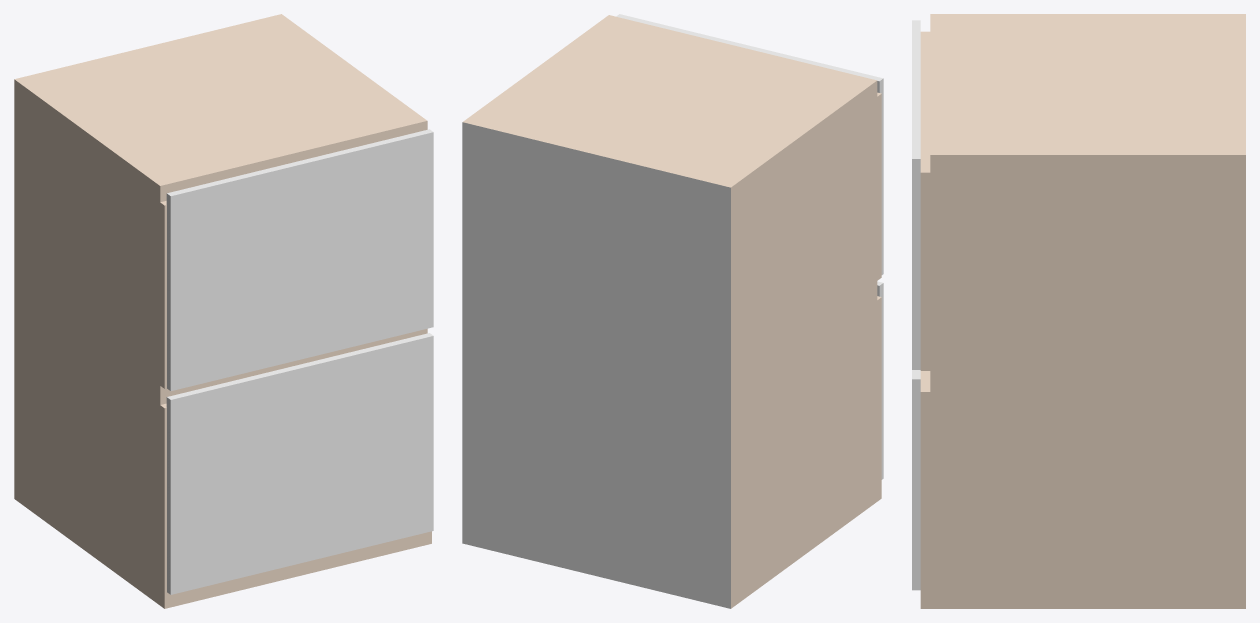
File: KTCH_ELIX_Cabinet_60_60_90_Drawers_2.FBX
The picture shows the model from 3 angles, left to right: view 1: azimuth 30°, elevation 25°; view 2: azimuth 150°, elevation 25°; view 3: azimuth 270°, elevation 25°; orthographic projection. The views are drawn at different scales.
Visible parts, largest first — view 1: KTCH_ELIX_Cabinet_60_60_90_Drawers_2; view 2: KTCH_ELIX_Cabinet_60_60_90_Drawers_2; view 3: KTCH_ELIX_Cabinet_60_60_90_Drawers_2.
Part boxes in pixels (bbox=[...]): KTCH_ELIX_Cabinet_60_60_90_Drawers_2: bbox=[14, 14, 433, 608]; KTCH_ELIX_Cabinet_60_60_90_Drawers_2: bbox=[462, 14, 883, 608]; KTCH_ELIX_Cabinet_60_60_90_Drawers_2: bbox=[912, 14, 1245, 608].
Bounding box in the file's own units: 60 × 59.98 × 90.
